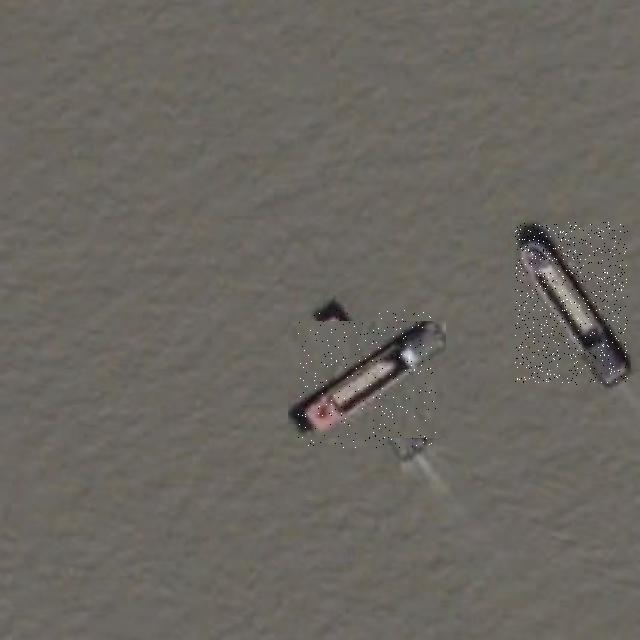boat: (298, 311, 436, 448), (515, 222, 628, 385)
